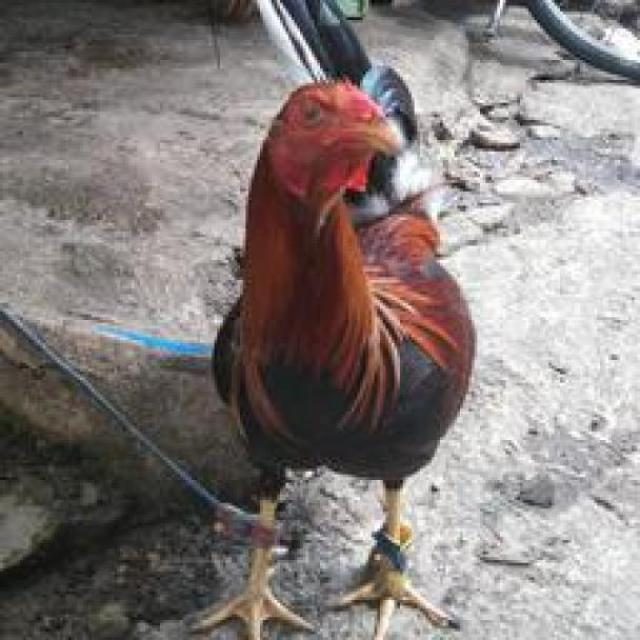Chicken: (170, 0, 488, 640)
